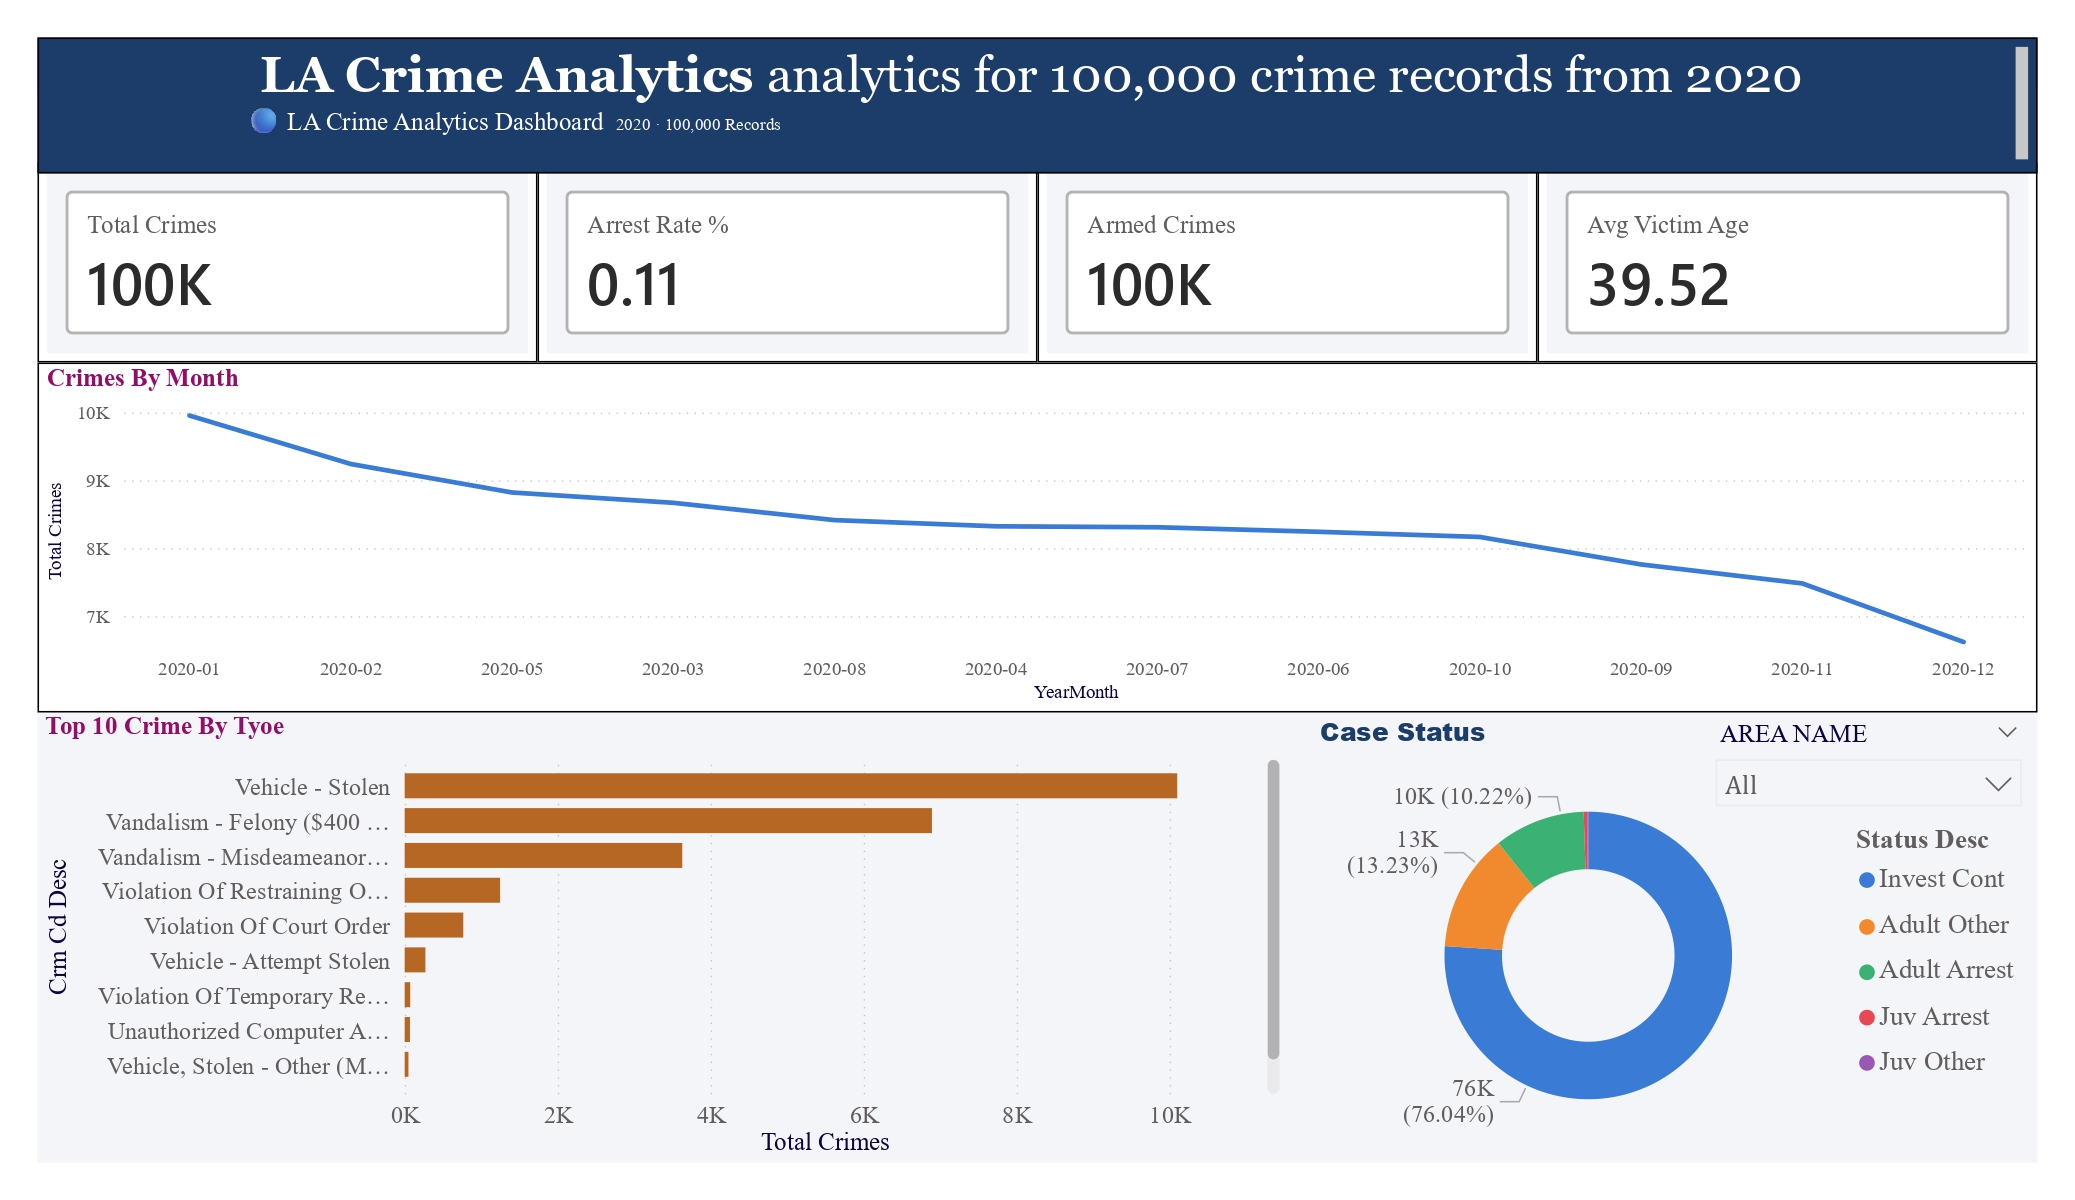

This screenshot's page, from the dashboard's own definition file:
{"tool":"powerbi","page":{"name":"Overview","canvas":[1280,720],"ordinal":0},"visuals":[{"type":"cardVisual","fields":{"Data":["CORE_KPI_MEASURES.Total Crimes"]},"box":[0,80,320,128],"z":0},{"type":"cardVisual","fields":{"Data":["WEAPON_MEASURES.Armed Crimes"]},"box":[640,80,320,128],"z":1000},{"type":"cardVisual","fields":{"Data":["CORE_KPI_MEASURES.Avg Victim Age"]},"box":[960,80,320,128],"z":2000},{"type":"cardVisual","fields":{"Data":["CORE_KPI_MEASURES.Arrest Rate %"]},"box":[320,80,320,128],"z":3000},{"type":"lineChart","title":"Crimes By Month","fields":{"Category":["Calendar.YearMonth"],"Y":["CORE_KPI_MEASURES.Total Crimes"]},"box":[0,208,1280,224],"z":4000},{"type":"clusteredBarChart","title":"Top 10 Crime By Tyoe","fields":{"Category":["Crime Data.Crm Cd Desc"],"Y":["CORE_KPI_MEASURES.Total Crimes"]},"box":[0,431.9,800.5,287.9],"z":5000},{"type":"donutChart","title":"Case Status","fields":{"Category":["Crime Data.Status Desc"],"Y":["CORE_KPI_MEASURES.Total Crimes"]},"box":[816,431.9,464,287.9],"z":6000},{"type":"slicer","fields":{"Values":["Crime Data.AREA NAME"]},"box":[1064.1,431.9,215.9,64.2],"z":7000},{"type":"textbox","box":[0,0,1280,86.6],"z":9000}]}

Visuals, with their boxes on the page's 1280x720 design canvas (x1, y1, x2, y2). These are canvas units, not pixel positions in the 2075x1200 screenshot, which may show the page scaled, cropped or inside an application window:
cardVisual - CORE_KPI_MEASURES.Total Crimes: [0, 80, 320, 208]
cardVisual - WEAPON_MEASURES.Armed Crimes: [640, 80, 960, 208]
cardVisual - CORE_KPI_MEASURES.Avg Victim Age: [960, 80, 1280, 208]
cardVisual - CORE_KPI_MEASURES.Arrest Rate %: [320, 80, 640, 208]
"Crimes By Month" lineChart: [0, 208, 1280, 432]
"Top 10 Crime By Tyoe" clusteredBarChart: [0, 432, 800, 720]
"Case Status" donutChart: [816, 432, 1280, 720]
slicer - Crime Data.AREA NAME: [1064, 432, 1280, 496]
textbox: [0, 0, 1280, 87]
